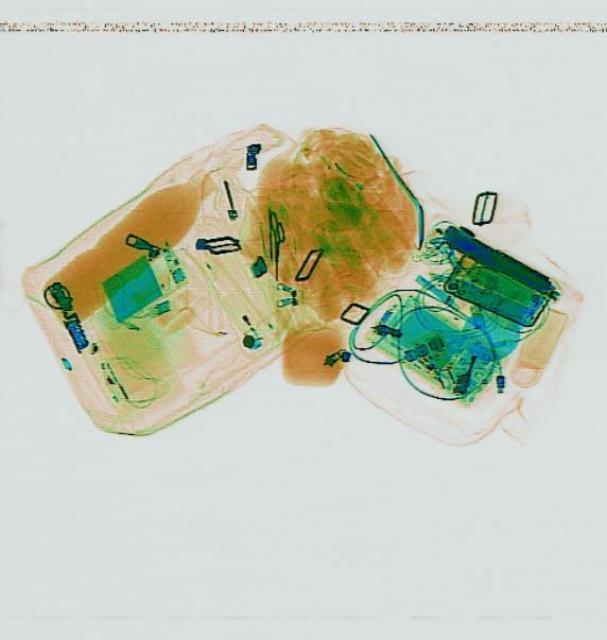Scissors: (267, 212, 284, 278)
